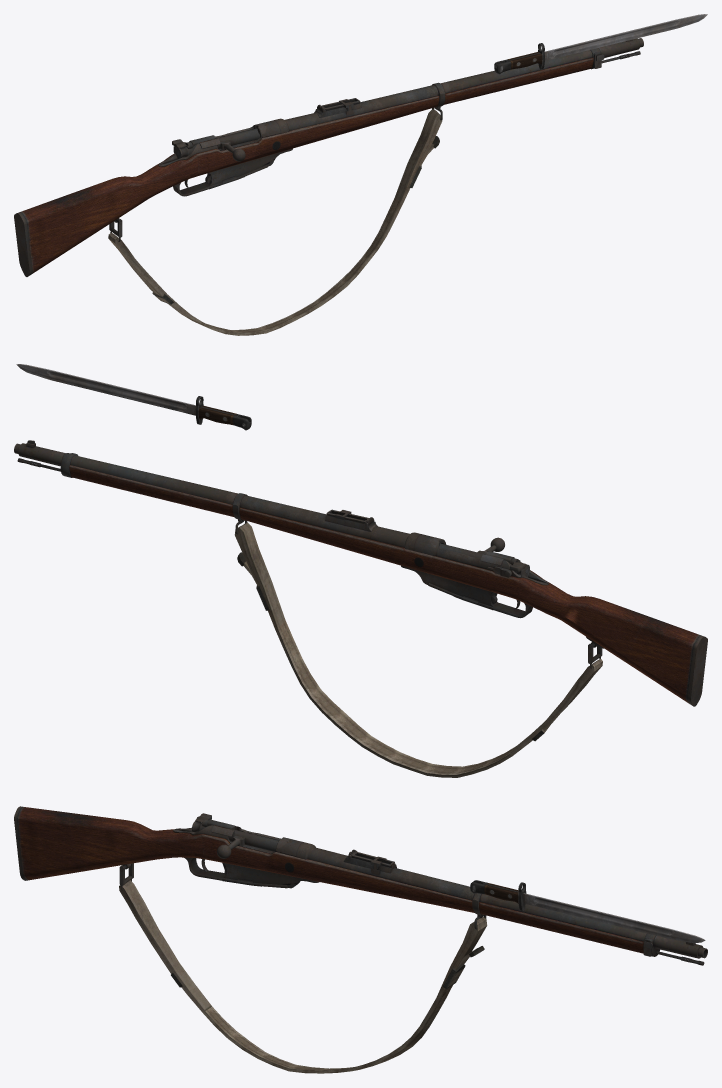
Rendered from qiang.fbx.
The picture shows the model from 3 angles, top to bottom: view 1: azimuth 30°, elevation 25°; view 2: azimuth 150°, elevation 25°; view 3: azimuth 330°, elevation 25°; orthographic projection. The views are drawn at different scales.
Visible parts, largest first — view 1: 16, 3, 29, 42; view 2: 16, 3, 29, 42; view 3: 16, 3, 29, 42.
Boxes of the visible parts, left/top/right/bottom form: 16: left=14, top=38, right=643, bottom=276; 3: left=108, top=109, right=442, bottom=335; 29: left=494, top=14, right=707, bottom=74; 42: left=172, top=128, right=259, bottom=161; 16: left=14, top=440, right=707, bottom=706; 3: left=234, top=522, right=602, bottom=777; 29: left=16, top=364, right=251, bottom=430; 42: left=439, top=537, right=529, bottom=577; 16: left=14, top=806, right=707, bottom=965; 3: left=119, top=880, right=487, bottom=1073; 29: left=470, top=880, right=705, bottom=943; 42: left=192, top=813, right=278, bottom=858.
Bounding box in the file's own units: 231 × 86.19 × 25.98.
